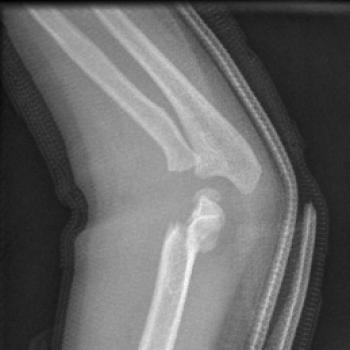Fracture: (156, 156, 214, 259)
